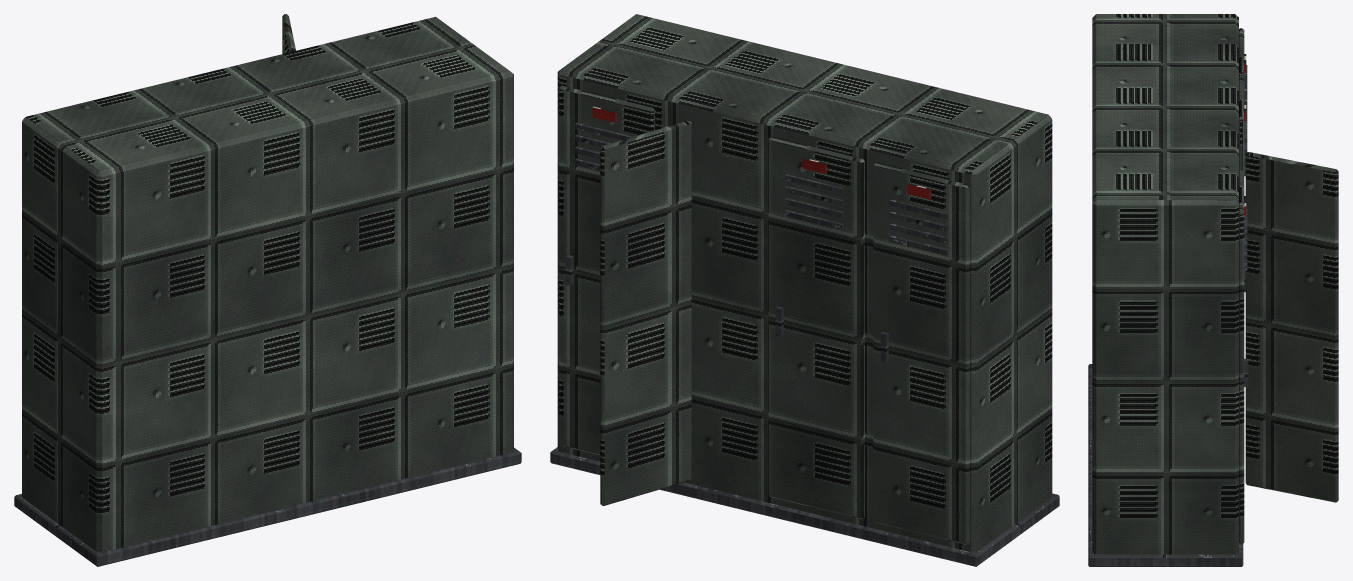
The model's file is prop_lockers.glb.
3 views of the same model, side by side, from view 1: azimuth 30°, elevation 25°; view 2: azimuth 150°, elevation 25°; view 3: azimuth 270°, elevation 25° (orthographic). The views are drawn at different scales.
Parts seen in each view (by area): view 1: prop_lockers_mesh; view 2: prop_lockers_mesh; view 3: prop_lockers_mesh.
Part boxes in pixels (x1,y1,x2,y2): prop_lockers_mesh: (14, 14, 521, 566); prop_lockers_mesh: (550, 14, 1059, 566); prop_lockers_mesh: (1088, 14, 1338, 566).
Size of the model in its own units: 2.24 by 1.97 by 1.23.
4 materials, 4 textured.
